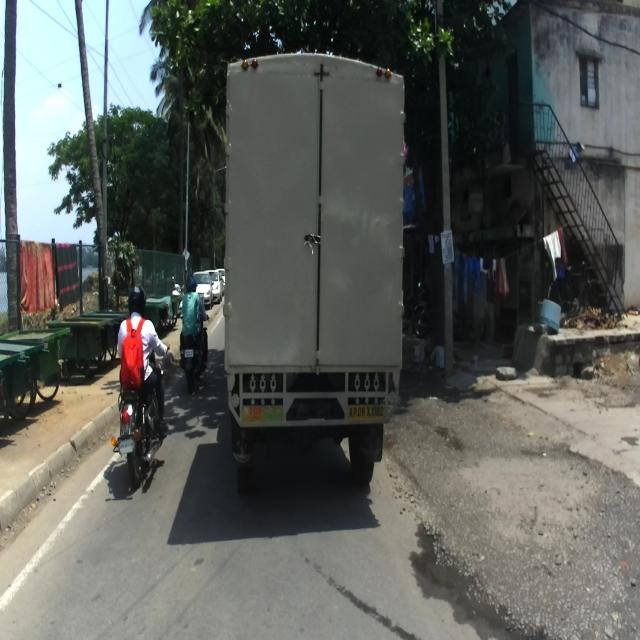motorcycle: (110, 342, 170, 487), (179, 314, 210, 394)
truck: (218, 49, 405, 497)
